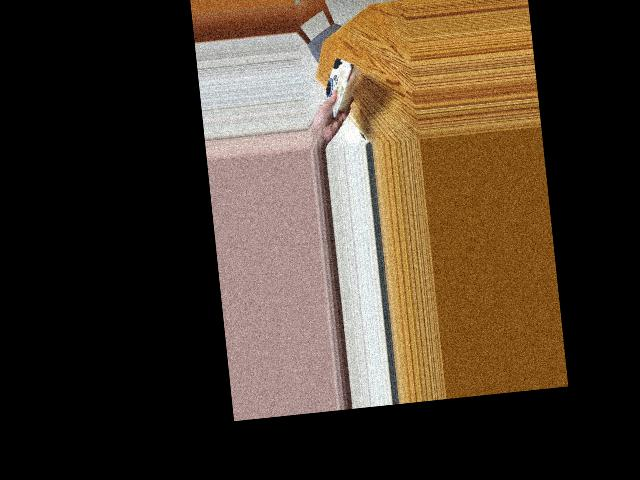cheese: (313, 58, 362, 110)
